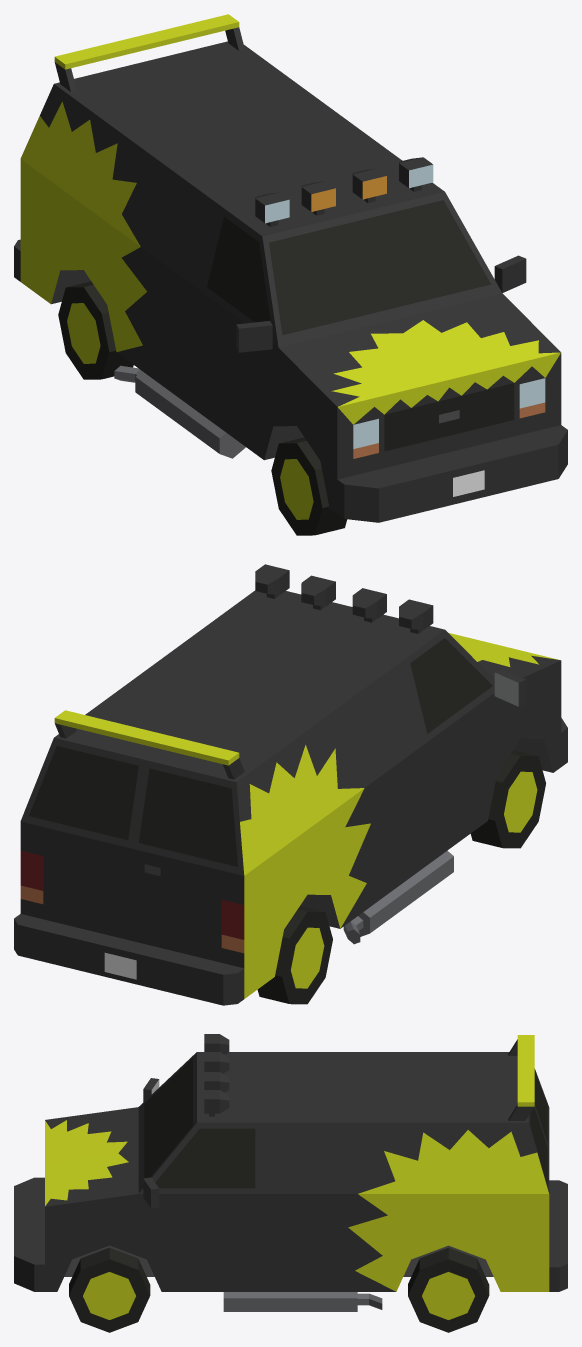
File: Veh_Van_02_Green.obj
The picture shows the model from 3 angles, top to bottom: view 1: azimuth 30°, elevation 25°; view 2: azimuth 150°, elevation 25°; view 3: azimuth 270°, elevation 25°; orthographic projection. The views are drawn at different scales.
Size of the model in its own units: 1.38 by 1.28 by 2.89.
